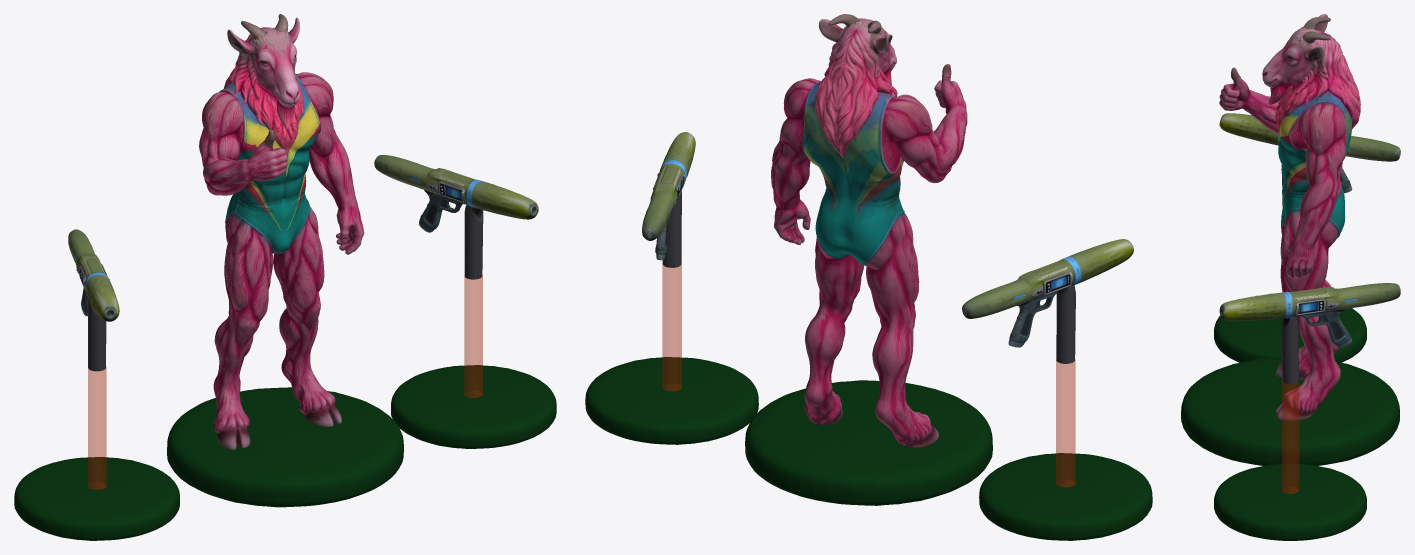
File: berta.glb
The picture shows the model from 3 angles, left to right: view 1: azimuth 30°, elevation 25°; view 2: azimuth 150°, elevation 25°; view 3: azimuth 270°, elevation 25°; orthographic projection. The views are drawn at different scales.
Parts seen in each view (by area): view 1: Mesh_0_reduced, Cylinder, Cylinder.001, Cylinder.006, node_0_reduced.001_reduced, node_0_reduced.002_reduced, Cylinder.003, Cylinder.004; view 2: Mesh_0_reduced, Cylinder, Cylinder.001, Cylinder.006, node_0_reduced.002_reduced, node_0_reduced.001_reduced, Cylinder.004, Cylinder.003; view 3: Mesh_0_reduced, Cylinder, Cylinder.006, node_0_reduced.001_reduced, Cylinder.001, node_0_reduced.002_reduced, Cylinder.003.
Part boxes in pixels (x1,y1,x2,y2): Mesh_0_reduced: (199,14,364,449); Cylinder: (167,387,403,507); Cylinder.001: (14,457,179,540); Cylinder.006: (391,365,556,448); node_0_reduced.001_reduced: (374,155,538,279); node_0_reduced.002_reduced: (68,229,119,371); Cylinder.003: (464,275,482,397); Cylinder.004: (88,367,106,489); Mesh_0_reduced: (771,14,967,447); Cylinder: (745,380,992,505); Cylinder.001: (979,453,1152,540); Cylinder.006: (585,357,758,444); node_0_reduced.002_reduced: (962,239,1133,363); node_0_reduced.001_reduced: (642,132,695,267); Cylinder.004: (1056,359,1075,487); Cylinder.003: (662,264,681,390); Mesh_0_reduced: (1219,14,1360,420); Cylinder: (1181,357,1399,465); Cylinder.006: (1214,463,1366,540); node_0_reduced.001_reduced: (1219,283,1400,384); Cylinder.001: (1214,308,1366,362); node_0_reduced.002_reduced: (1219,113,1400,206); Cylinder.003: (1282,381,1298,493).
Size of the model in its own units: 2.49 by 1.99 by 0.9847.
Materials: 5 (3 with a texture image).
